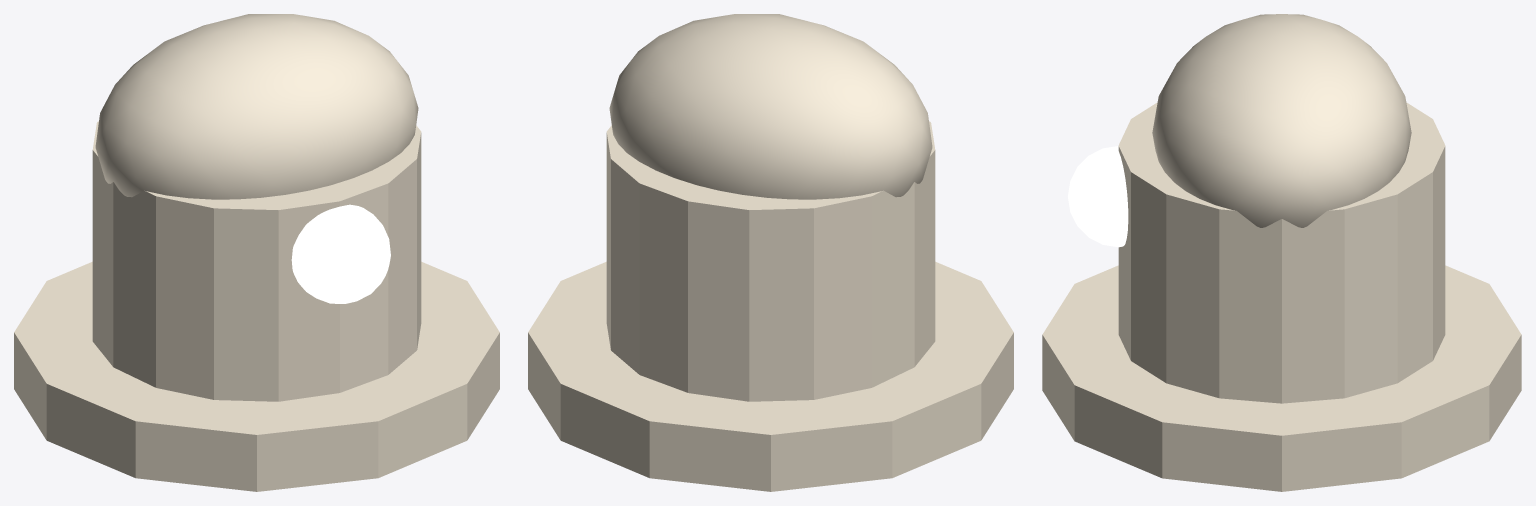
File: academy.glb
3 renders of one model, left to right at view 1: azimuth 30°, elevation 25°; view 2: azimuth 150°, elevation 25°; view 3: azimuth 270°, elevation 25°, orthographic.
Parts seen in each view (by area): view 1: Academy drum, Building foundation, Nacre shell, Pearl of knowledge; view 2: Academy drum, Building foundation, Nacre shell; view 3: Academy drum, Building foundation, Nacre shell, Pearl of knowledge.
Part boxes in pixels (x1,y1,x2,y2): Academy drum: (92,121,421,401); Building foundation: (14,261,499,491); Nacre shell: (95,14,418,199); Pearl of knowledge: (291,204,390,303); Academy drum: (606,121,935,401); Building foundation: (528,261,1013,491); Nacre shell: (609,14,932,199); Academy drum: (1118,102,1445,403); Building foundation: (1042,265,1521,491); Nacre shell: (1152,14,1411,227); Pearl of knowledge: (1068,146,1128,247).
Bounding box in the file's own units: 0.085 × 0.0695 × 0.085.
